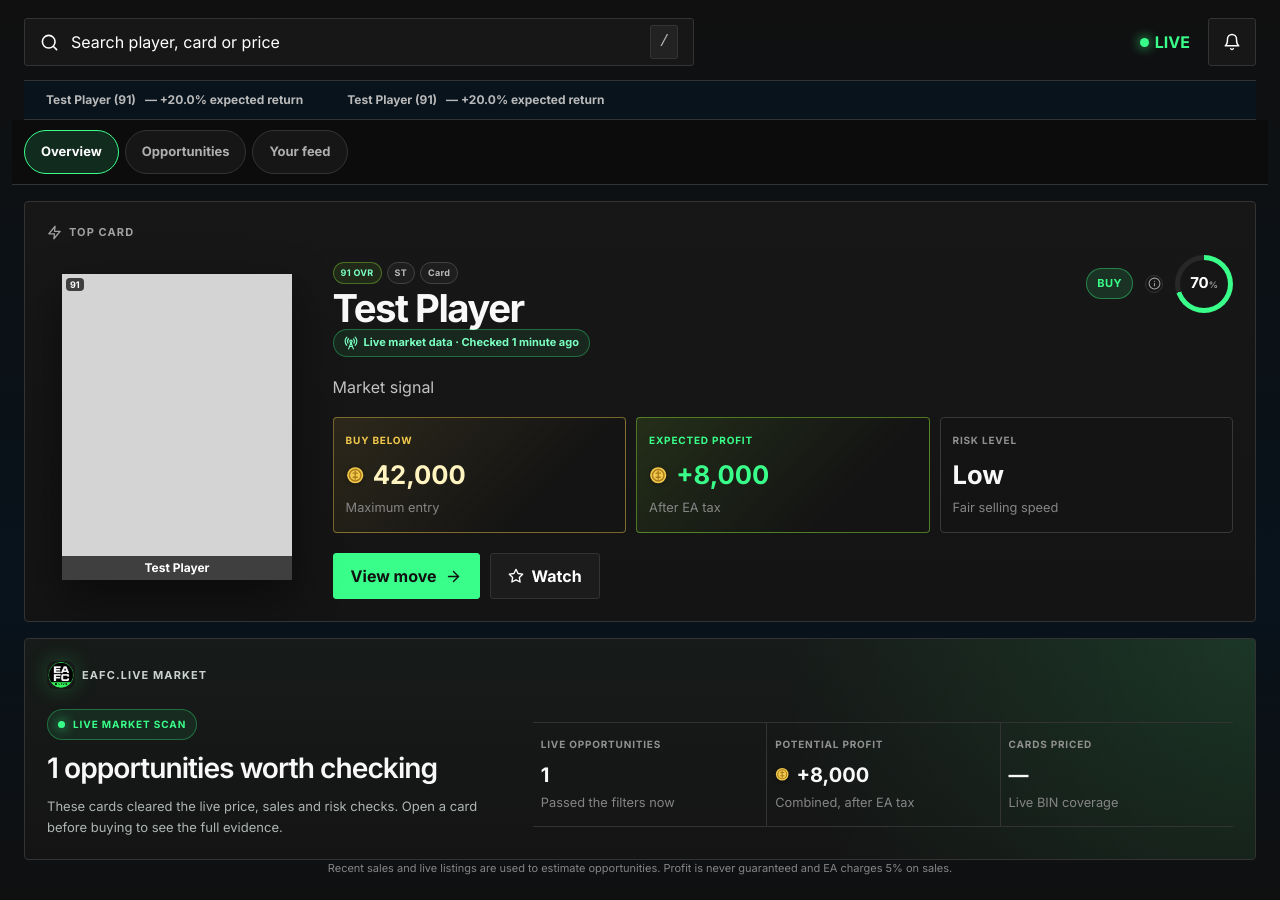
Test: HomeDashboard mobile section grouping › switching to the Opportunities tab mounts Next Best Moves and Strategy Finder together
The width and height of the screenshot is (1280, 900).
What coordinates should you click on to do the following:
click the tab "Opportunities"
I would click on:
 (186, 152)
Its box is left=125, top=130, right=246, bottom=174.
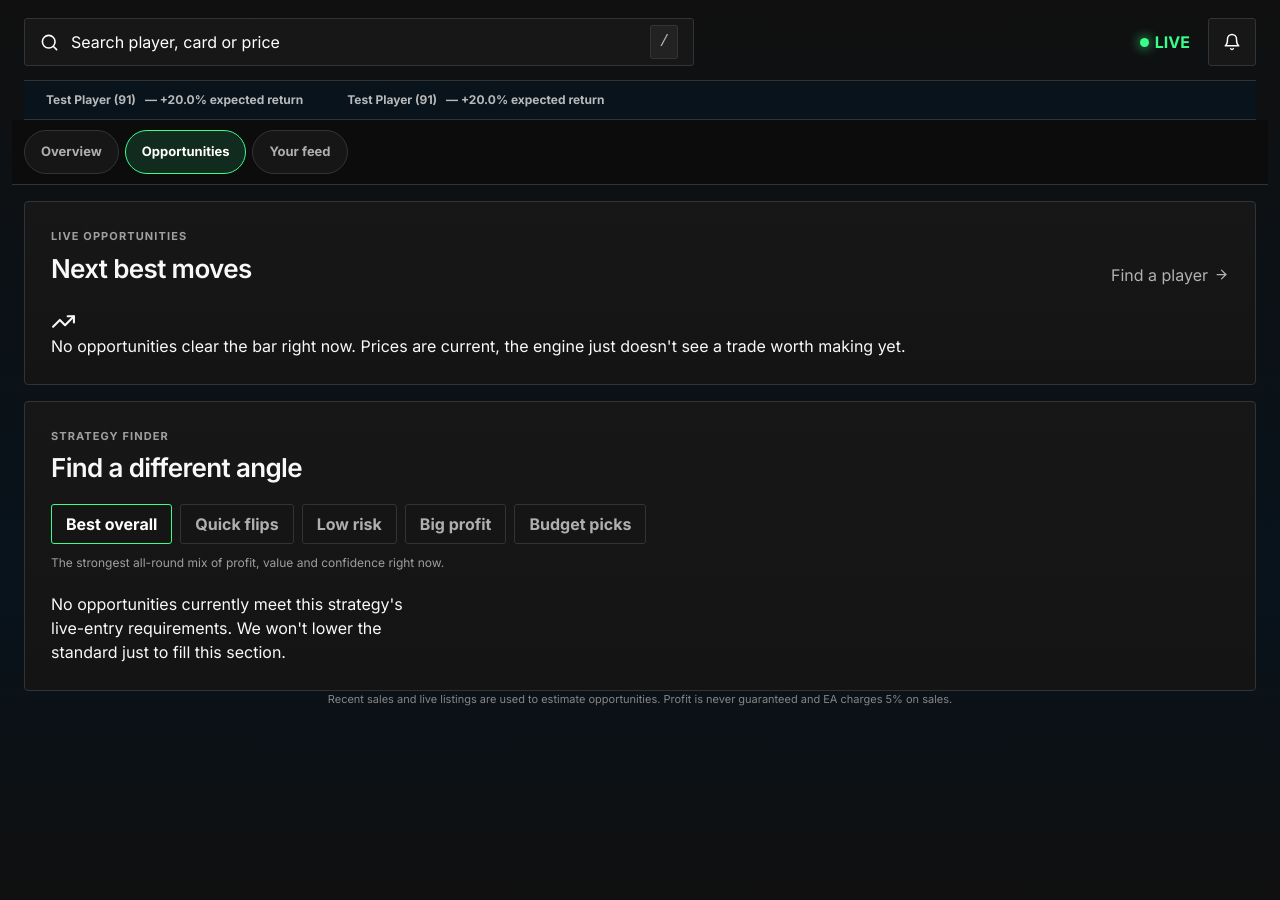
Check: the heading "Next best moves" is shown, box left=51, top=250, right=252, bottom=286
Check: the heading "Find a different angle" is shown, box left=51, top=450, right=302, bottom=486
